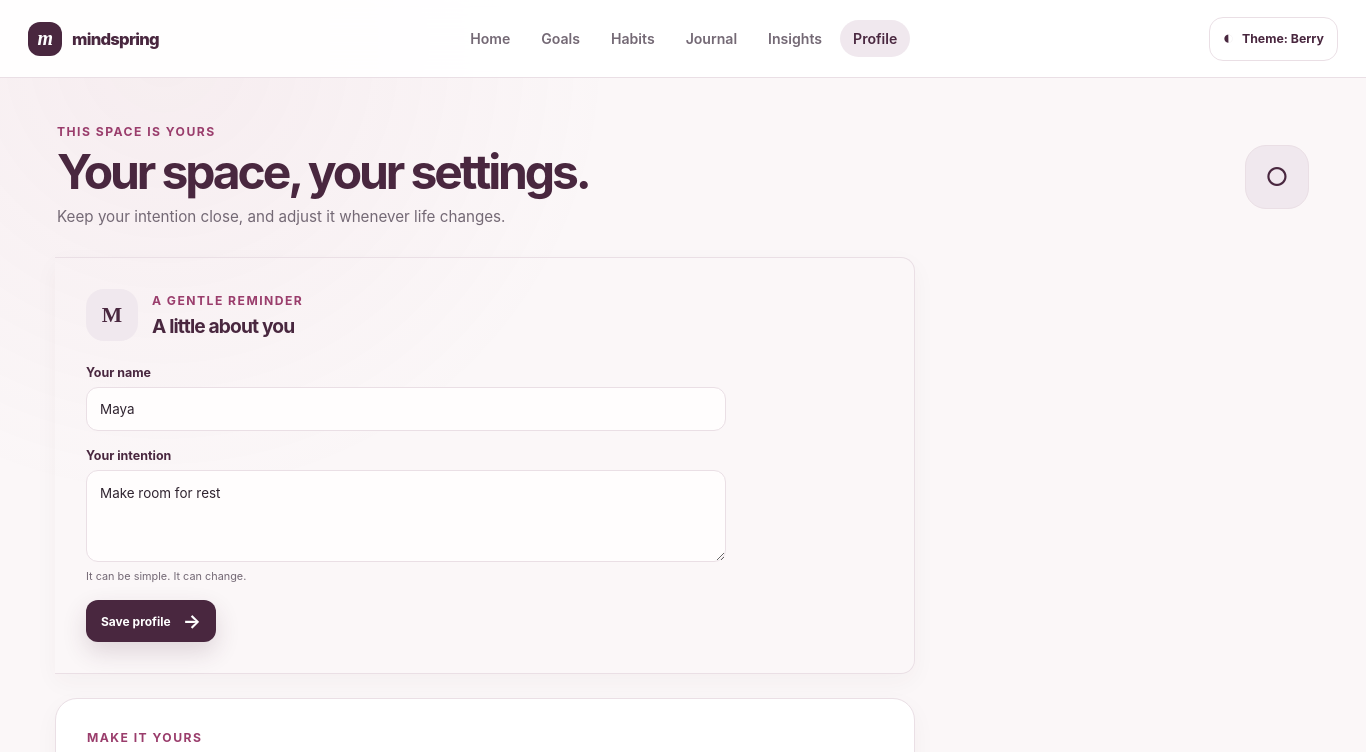
Scenario: Profile page › saves profile edits in browser storage
This screenshot has width=1366, height=752.
Replace the text in the field labelled "Your name" with "Maya R." at point(406, 409), box x1=86 y1=387 x2=726 y2=431
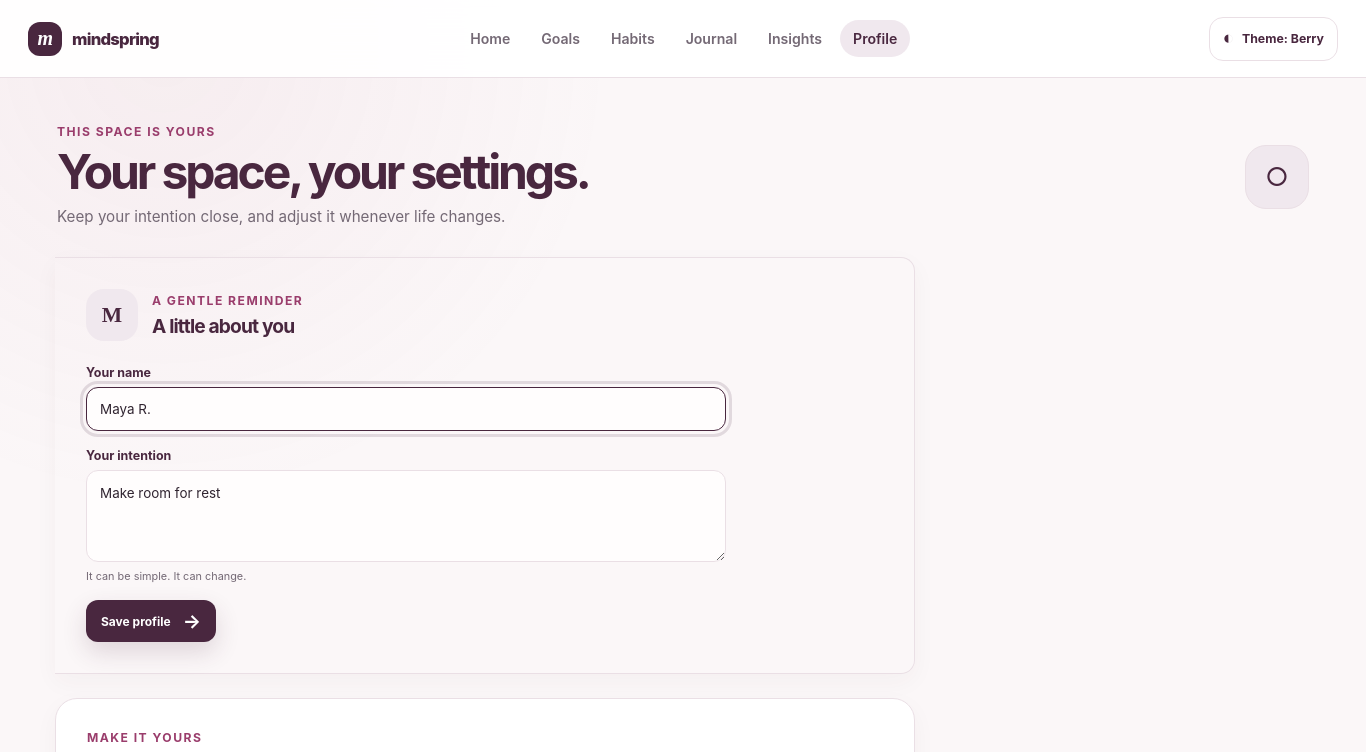
Replace the text in the text box labelled "Your intention" with "Trust my pace" at point(406, 516), box x1=86 y1=470 x2=726 y2=562
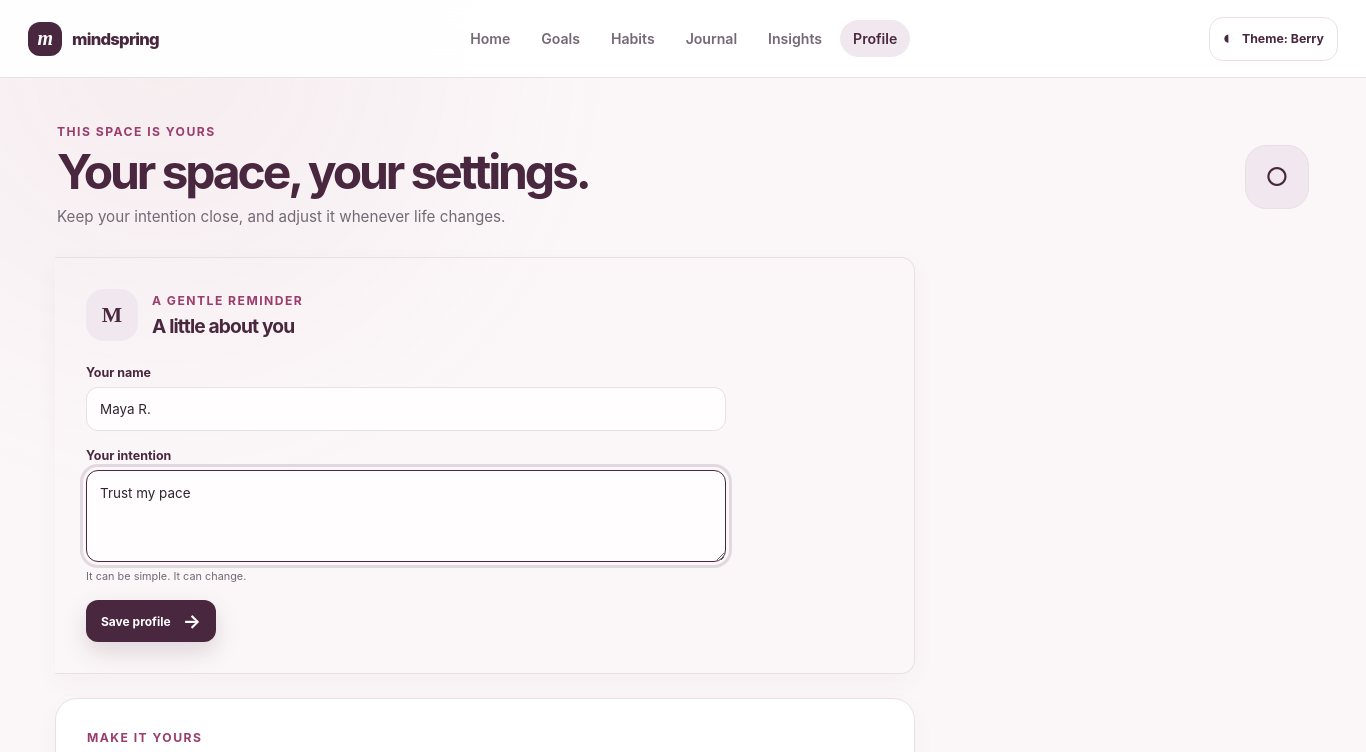
Click the button "Save profile →".
click(151, 621)  # box x1=86 y1=600 x2=216 y2=642
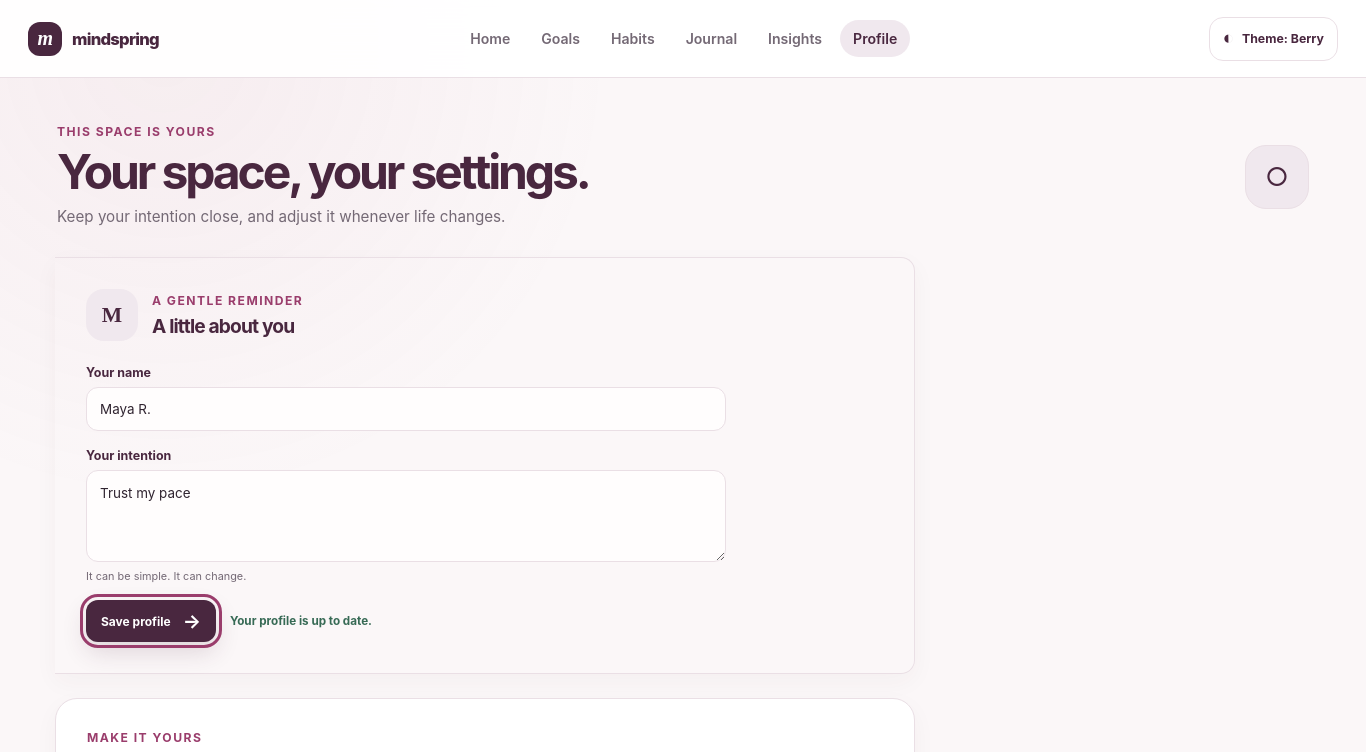
expect the text "Your profile is up to date." is shown: met, box x1=230 y1=614 x2=372 y2=628
